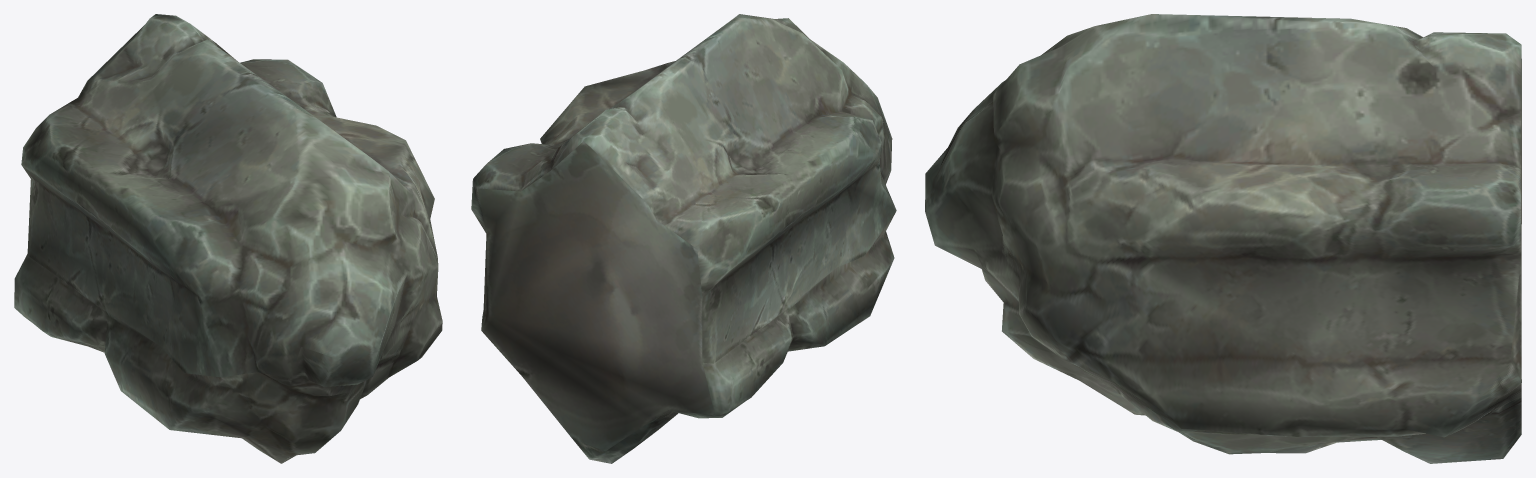
The model's file is Ruins_Pillar_Dmg_B.fbx.
3 views of the same model, side by side, from view 1: azimuth 30°, elevation 25°; view 2: azimuth 150°, elevation 25°; view 3: azimuth 270°, elevation 25° (orthographic). The views are drawn at different scales.
Visible parts, largest first — view 1: Ruins_Pillar_Dmg_B; view 2: Ruins_Pillar_Dmg_B; view 3: Ruins_Pillar_Dmg_B.
Boxes of the visible parts, x1,y1,x2,y2 form: Ruins_Pillar_Dmg_B: (14, 14, 442, 463); Ruins_Pillar_Dmg_B: (471, 14, 896, 463); Ruins_Pillar_Dmg_B: (925, 14, 1521, 463).
Bounding box in the file's own units: 300 × 384 × 467.
